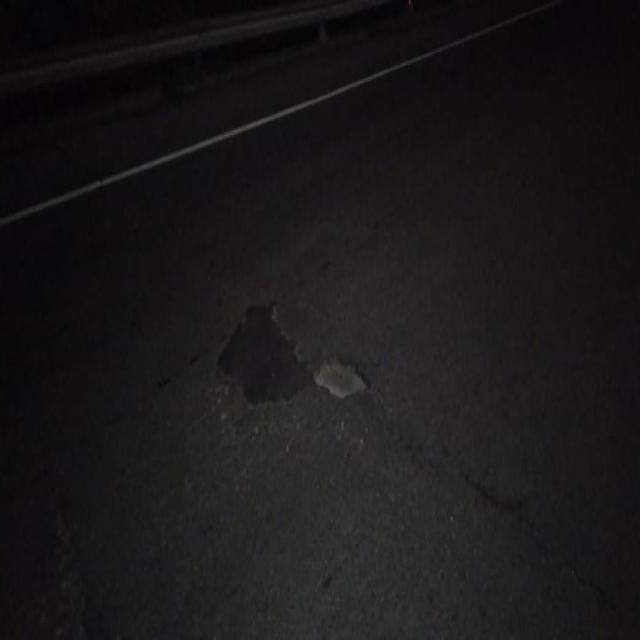Buraco: (307, 351, 374, 404)
